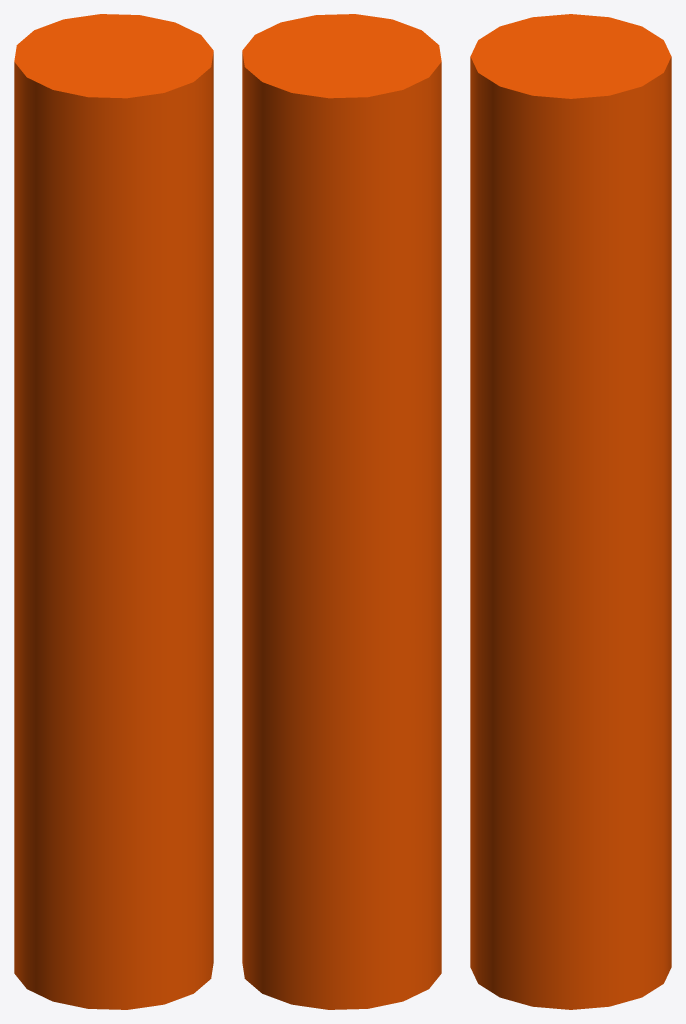
Rendered from Central Pillar.fbx.
3 renders of one model, left to right at view 1: azimuth 30°, elevation 25°; view 2: azimuth 150°, elevation 25°; view 3: azimuth 270°, elevation 25°, orthographic.
Visible parts, largest first — view 1: Central_Pillar; view 2: Central_Pillar; view 3: Central_Pillar.
Part boxes in pixels (<box>): Central_Pillar: <box>14,14,213,1009</box>; Central_Pillar: <box>242,14,441,1009</box>; Central_Pillar: <box>470,14,671,1009</box>.
Size of the model in its own units: 300 by 1500 by 300.
